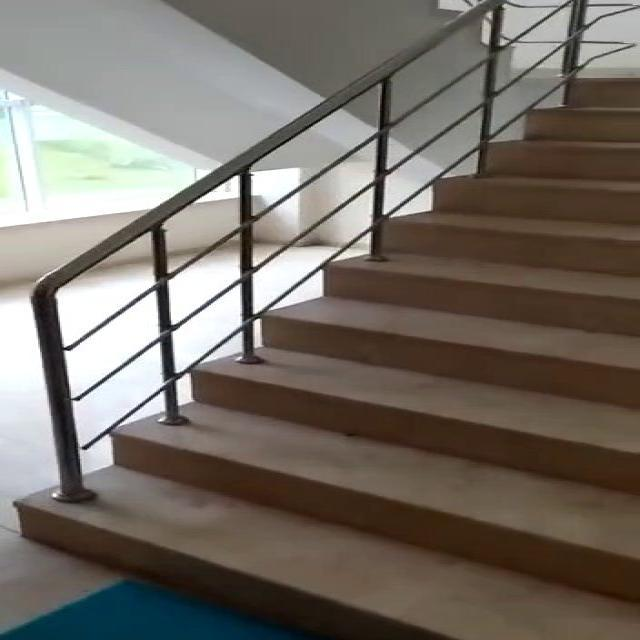stair: (39, 71, 640, 640)
